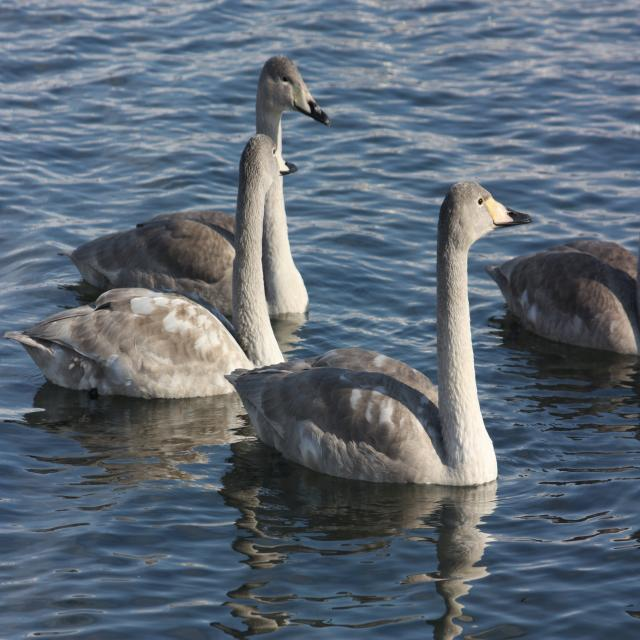bird: (263, 172, 527, 486), (37, 138, 298, 412), (76, 44, 334, 316), (484, 239, 640, 368)
